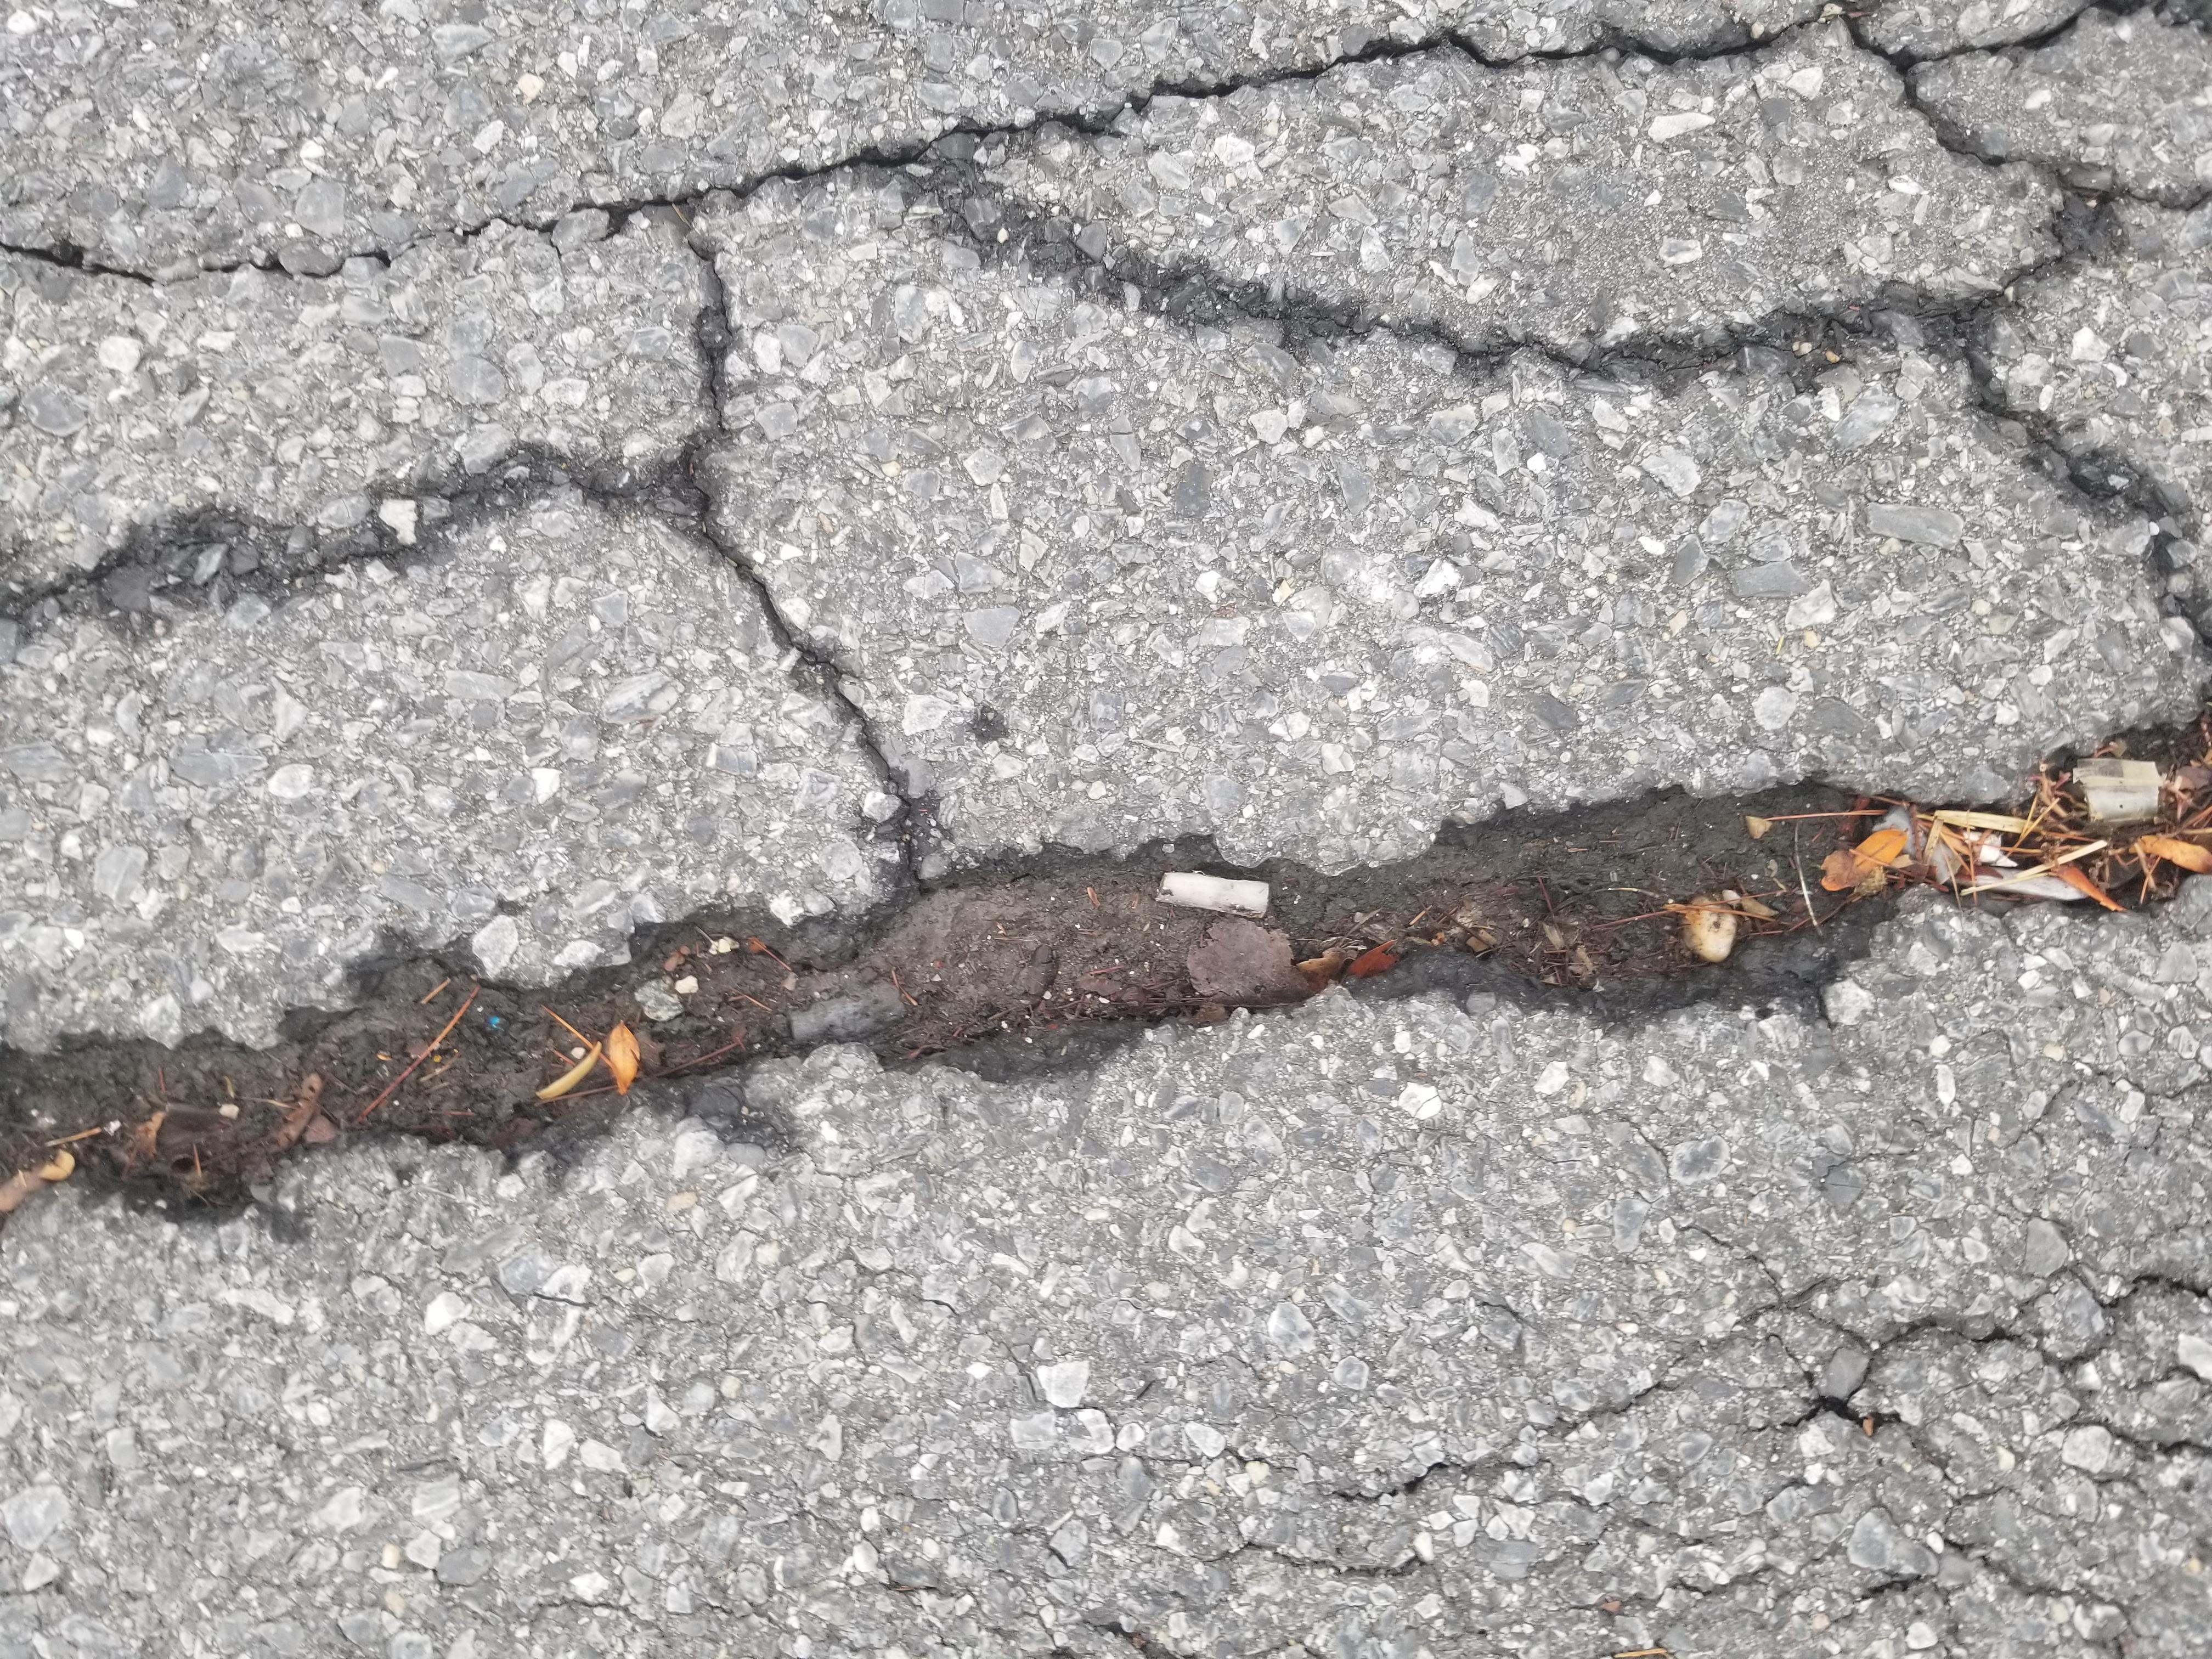crack: (1332, 680, 2092, 1659), (1799, 9, 2212, 1649), (1134, 14, 1888, 702), (0, 943, 556, 1659)
pothole: (557, 5, 1325, 1659)
